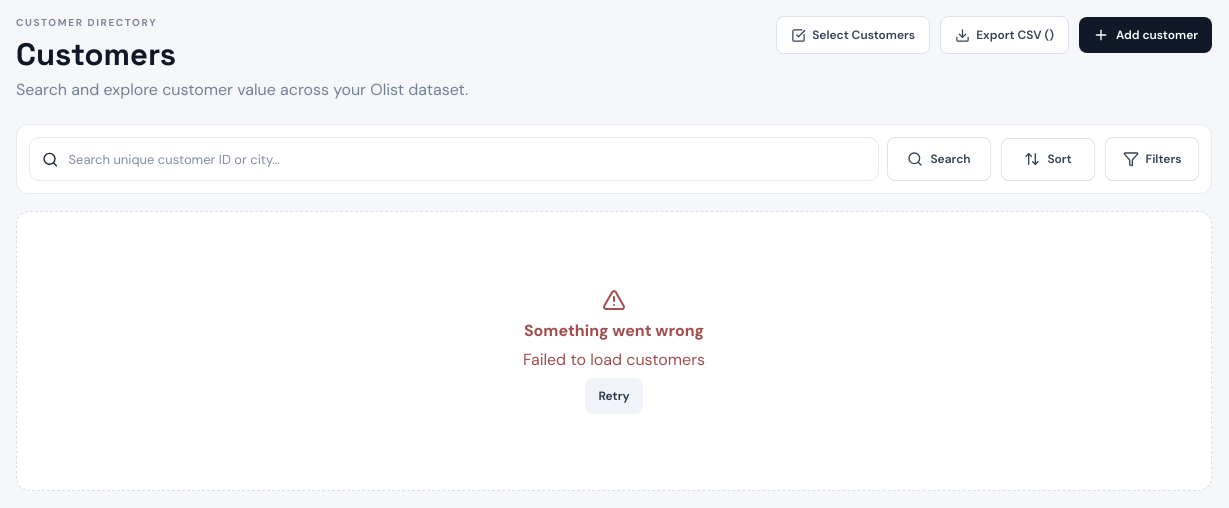
Test: Customers Directory Page › displays error state when customer fetching fails and retries on click
Check: the text "Something went wrong" is shown, box [524,320,704,341]
Check: the text "Failed to load customers" is shown, box [523,349,705,370]
Click the button "Retry": (614, 396) [584,378,644,414]
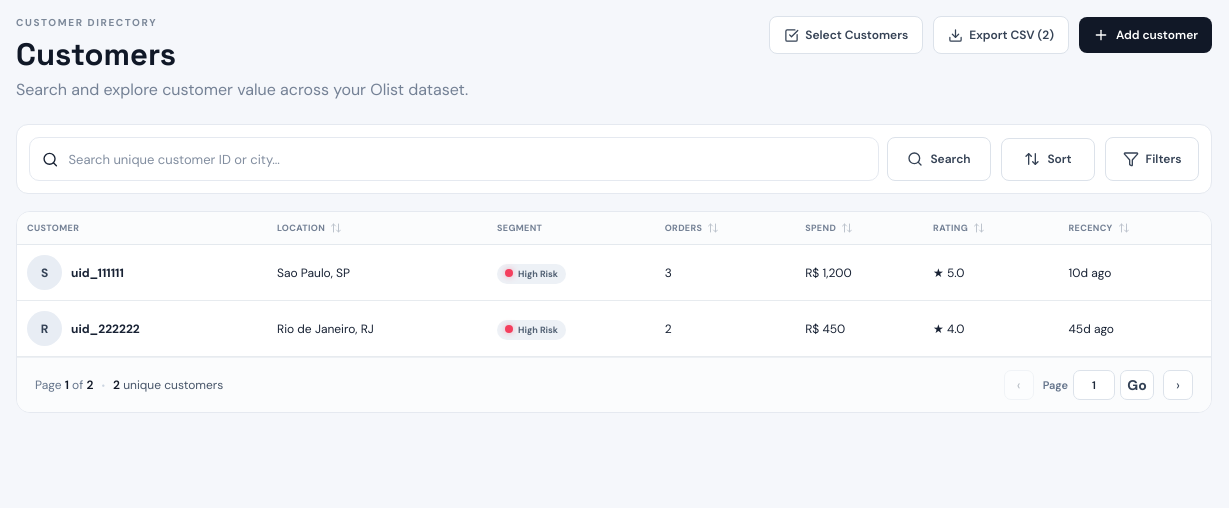
Check: the text "uid_111111" is shown, box [71,264,124,280]
